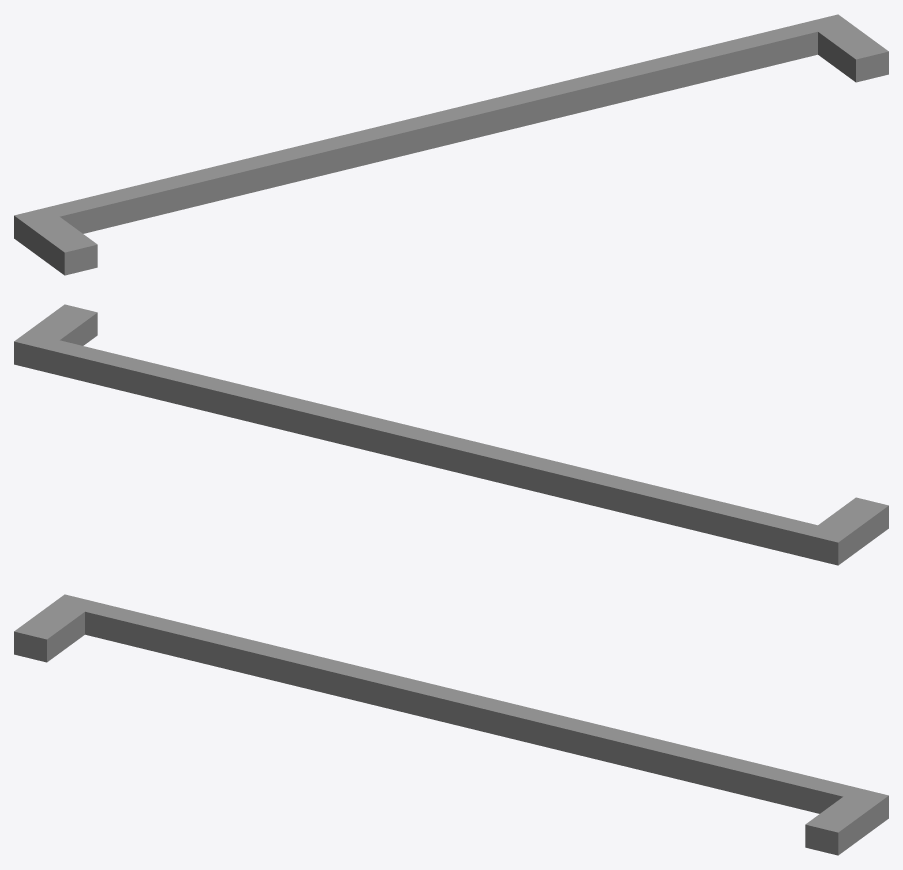
File: clothes1.gltf
3 views of the same model, one above another, from view 1: azimuth 30°, elevation 25°; view 2: azimuth 150°, elevation 25°; view 3: azimuth 330°, elevation 25° (orthographic).
Visible parts, largest first — view 1: cuboid (×3); view 2: cuboid (×3); view 3: cuboid (×3).
Part boxes in pixels (left/top/right/bottom): cuboid (×3): left=14, top=14, right=888, bottom=275; cuboid (×3): left=14, top=304, right=888, bottom=565; cuboid (×3): left=14, top=594, right=888, bottom=855.
Bounding box in the file's own units: 0.4688 × 0.0125 × 0.05.
1 material, 1 textured.
